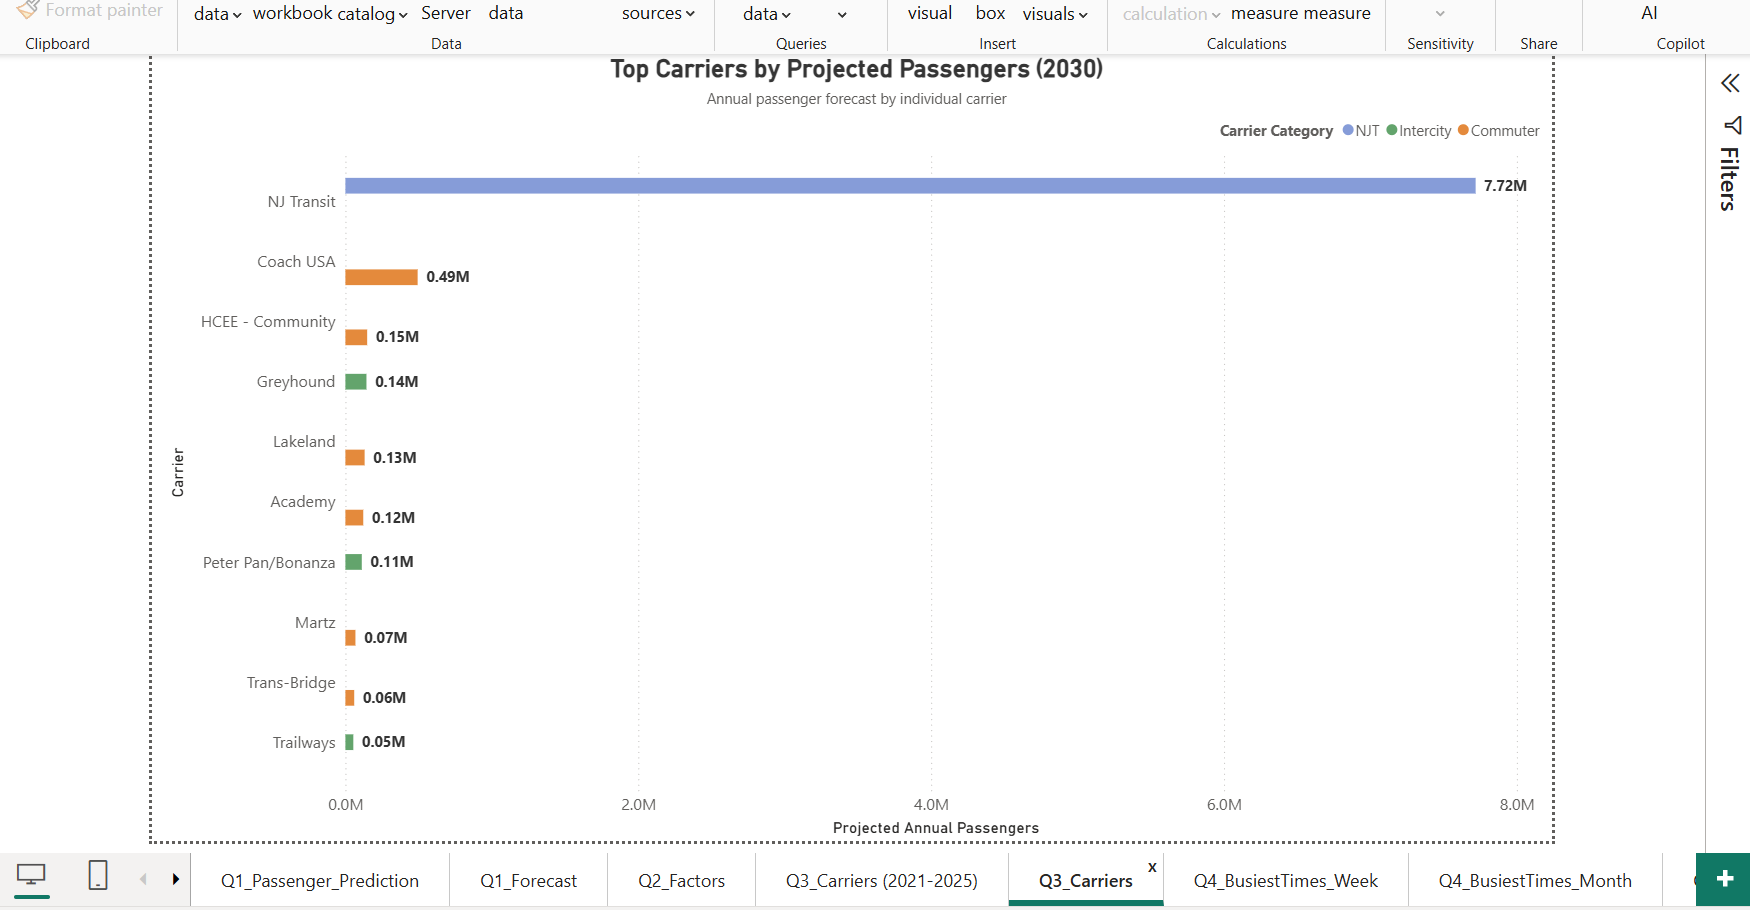

The dashboard page shown, as its layout file describes it:
{"tool":"powerbi","page":{"name":"Q3_Carriers","canvas":[1280,720],"ordinal":5},"visuals":[{"type":"clusteredBarChart","title":"Top Carriers by Projected Passengers (2030)","fields":{"Category":["06_Carrier_Projections_2026_2030.Carrier"],"Y":["Sum(06_Carrier_Projections_2026_2030.Projected_Annual_Passengers)"],"Series":["06_Carrier_Projections_2026_2030.Carrier_Category"]},"box":[10,0,1270,720],"z":0}]}

Visuals, with their boxes on the page's 1280x720 design canvas (x1, y1, x2, y2). These are canvas units, not pixel positions in the 1750x910 screenshot, which may show the page scaled, cropped or inside an application window:
"Top Carriers by Projected Passengers (2030)" clusteredBarChart: {"x1": 10, "y1": 0, "x2": 1280, "y2": 720}
